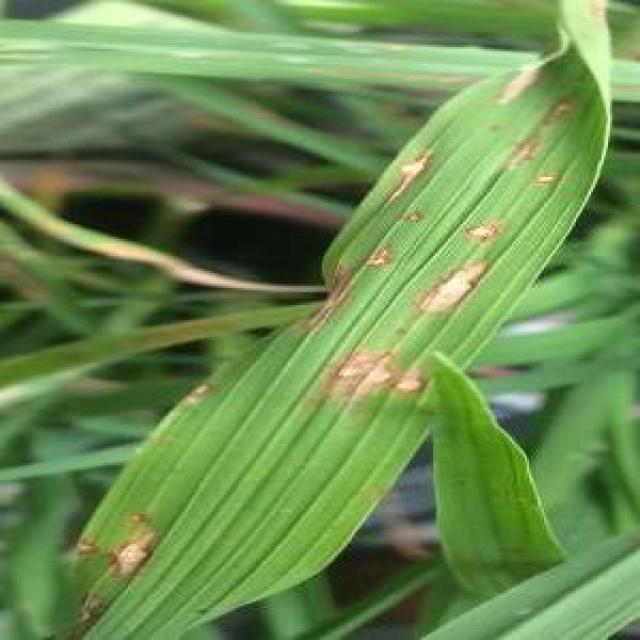Rice_Blast: (412, 256, 489, 321), (308, 258, 362, 332), (106, 523, 168, 586), (322, 348, 397, 398), (488, 60, 552, 112), (383, 152, 441, 203), (502, 134, 548, 174), (76, 590, 112, 640), (396, 360, 435, 402), (185, 374, 225, 409), (365, 243, 401, 272), (75, 533, 110, 561), (124, 503, 156, 528), (546, 100, 578, 120), (537, 169, 566, 189), (467, 223, 505, 237), (405, 200, 421, 227)
